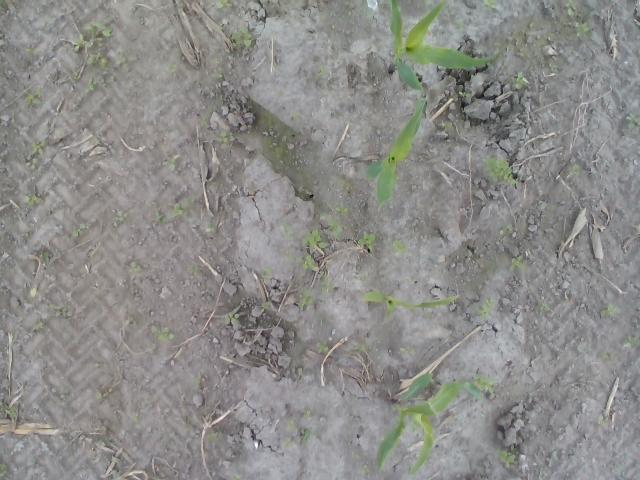Maize: (376, 372, 484, 474), (388, 0, 498, 91), (361, 99, 426, 206), (358, 291, 449, 320)
Weeds: (303, 220, 342, 248), (481, 154, 516, 185), (85, 49, 127, 73), (228, 24, 258, 48), (286, 254, 318, 272), (85, 22, 114, 38), (282, 420, 298, 448), (84, 78, 112, 94), (170, 198, 193, 217), (495, 446, 515, 467), (151, 325, 175, 342), (479, 296, 496, 319), (49, 303, 72, 320), (476, 374, 496, 393), (296, 286, 313, 308), (358, 230, 376, 250), (24, 87, 44, 105), (74, 34, 96, 50), (574, 20, 592, 39), (23, 194, 43, 210), (32, 137, 48, 156), (512, 70, 528, 88), (72, 223, 88, 241), (392, 238, 408, 255), (511, 255, 527, 272), (320, 270, 332, 292), (600, 303, 616, 319), (216, 128, 231, 145), (282, 222, 294, 242), (336, 202, 352, 217), (564, 0, 578, 17), (154, 207, 167, 225), (398, 344, 416, 357), (481, 0, 497, 14), (338, 176, 352, 192), (595, 415, 609, 430), (0, 404, 16, 417), (111, 212, 128, 224), (626, 112, 638, 128), (34, 251, 48, 264), (214, 0, 232, 10), (126, 261, 142, 272), (550, 63, 560, 80), (499, 224, 512, 237), (32, 321, 46, 333), (624, 336, 640, 346), (302, 408, 314, 421), (316, 341, 330, 352), (24, 158, 38, 169), (302, 430, 314, 442), (568, 164, 580, 176), (192, 376, 208, 385), (344, 0, 353, 16), (356, 464, 369, 475), (207, 432, 220, 443), (598, 350, 612, 360), (163, 159, 176, 169), (200, 115, 210, 128), (438, 120, 452, 129), (166, 63, 178, 73), (190, 262, 200, 274), (226, 312, 240, 320), (212, 72, 226, 80), (0, 462, 7, 478), (261, 268, 272, 278), (267, 139, 278, 149), (629, 359, 640, 369), (356, 344, 369, 352), (318, 64, 326, 77), (206, 223, 216, 233), (350, 450, 360, 460), (456, 20, 464, 32), (458, 90, 471, 97), (231, 471, 241, 480), (94, 390, 102, 400), (261, 303, 272, 309), (544, 303, 552, 311), (72, 70, 79, 79), (24, 48, 34, 54), (216, 24, 223, 32), (378, 0, 385, 8), (449, 296, 456, 304), (422, 0, 432, 5)
